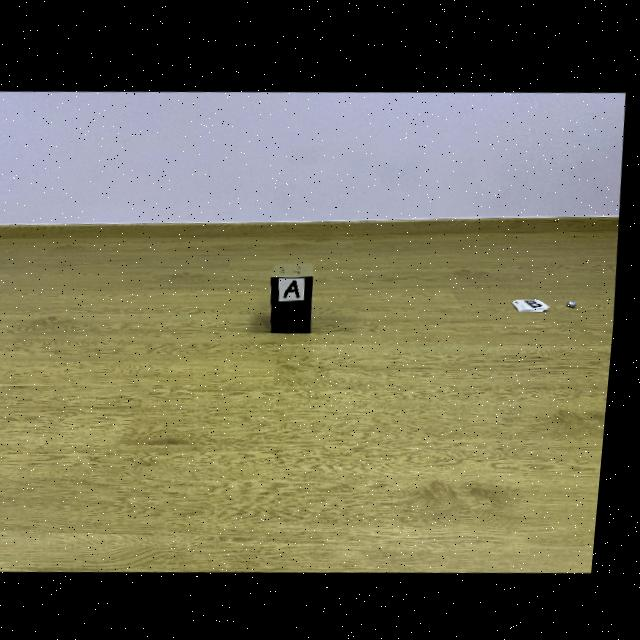A: (289, 278, 304, 293)
